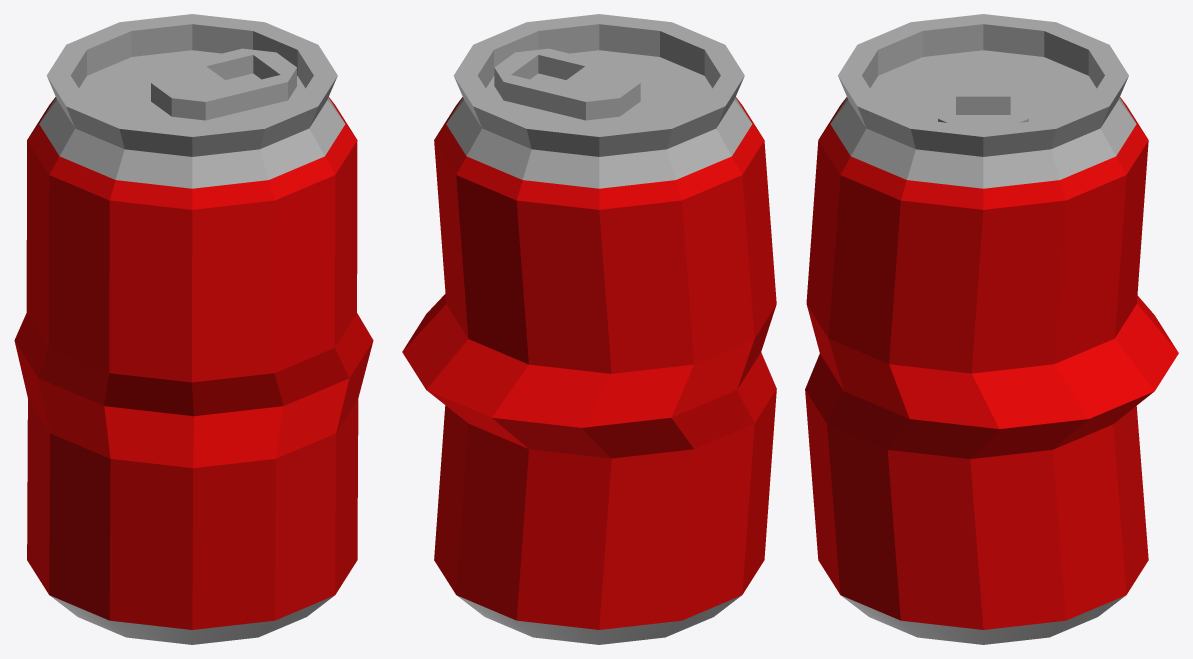
The model's file is Mdl_Can.fbx.
The picture shows the model from 3 angles, left to right: view 1: azimuth 30°, elevation 25°; view 2: azimuth 150°, elevation 25°; view 3: azimuth 270°, elevation 25°; orthographic projection.
Parts seen in each view (by area): view 1: Mdl_Can; view 2: Mdl_Can; view 3: Mdl_Can.
Boxes of the visible parts, <box> form: Mdl_Can: <box>14,14,373,644</box>; Mdl_Can: <box>402,14,776,644</box>; Mdl_Can: <box>805,14,1178,644</box>.
Size of the model in its own units: 1.16 by 1.8 by 1.19.
